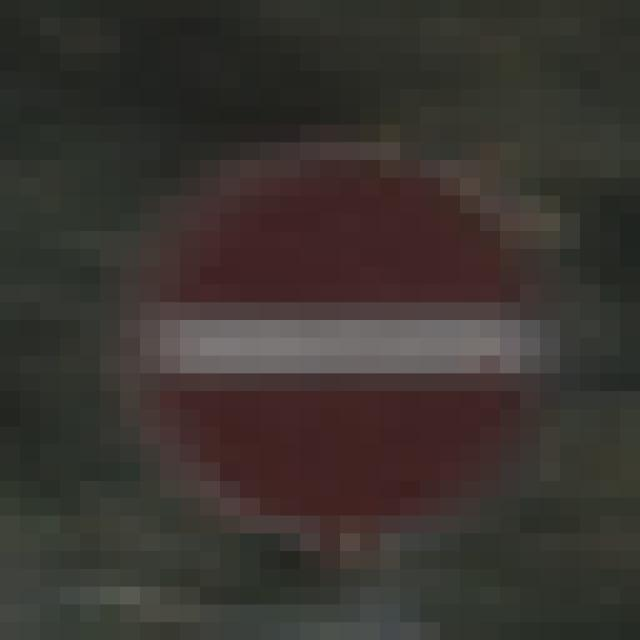No Entry: (121, 108, 541, 552)
